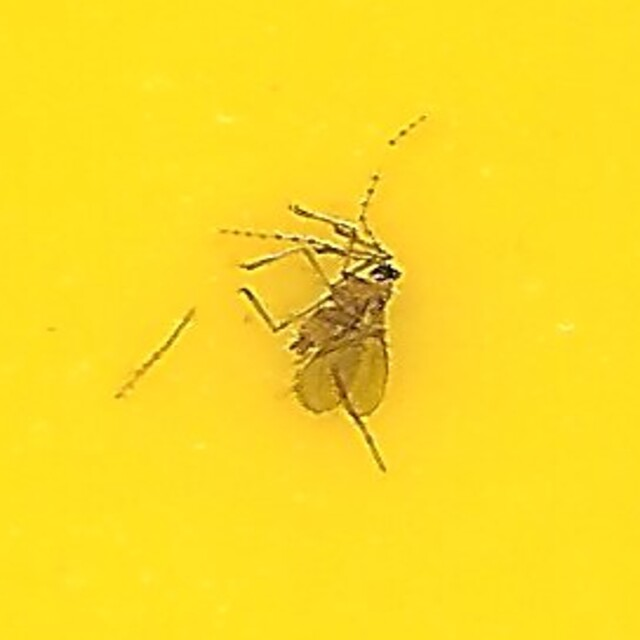Nematocera: (235, 203, 405, 437)
